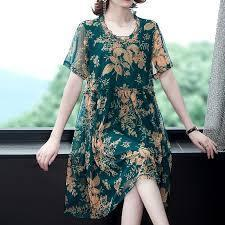dress: (62, 17, 172, 217)
